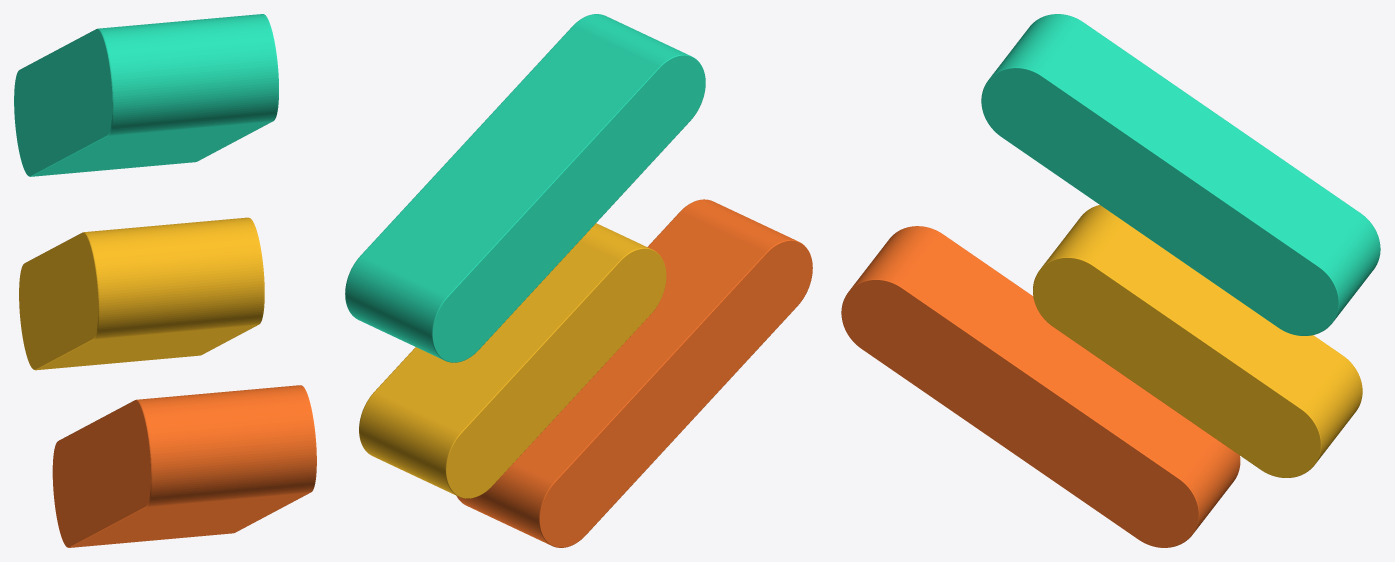
The model's file is euler.glb.
The picture shows the model from 3 angles, left to right: view 1: azimuth 30°, elevation 25°; view 2: azimuth 150°, elevation 25°; view 3: azimuth 270°, elevation 25°; orthographic projection. The views are drawn at different scales.
Bounding box in the file's own units: 2.21 × 3.88 × 4.12.
